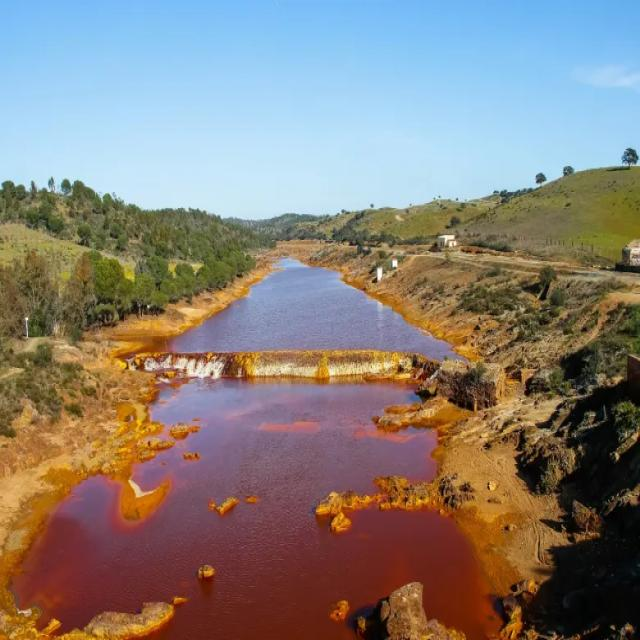yellow_boy: (10, 373, 497, 639), (169, 258, 448, 356)
